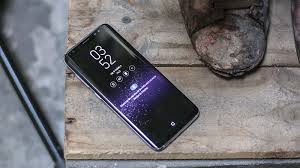samsung: (61, 22, 204, 153)
